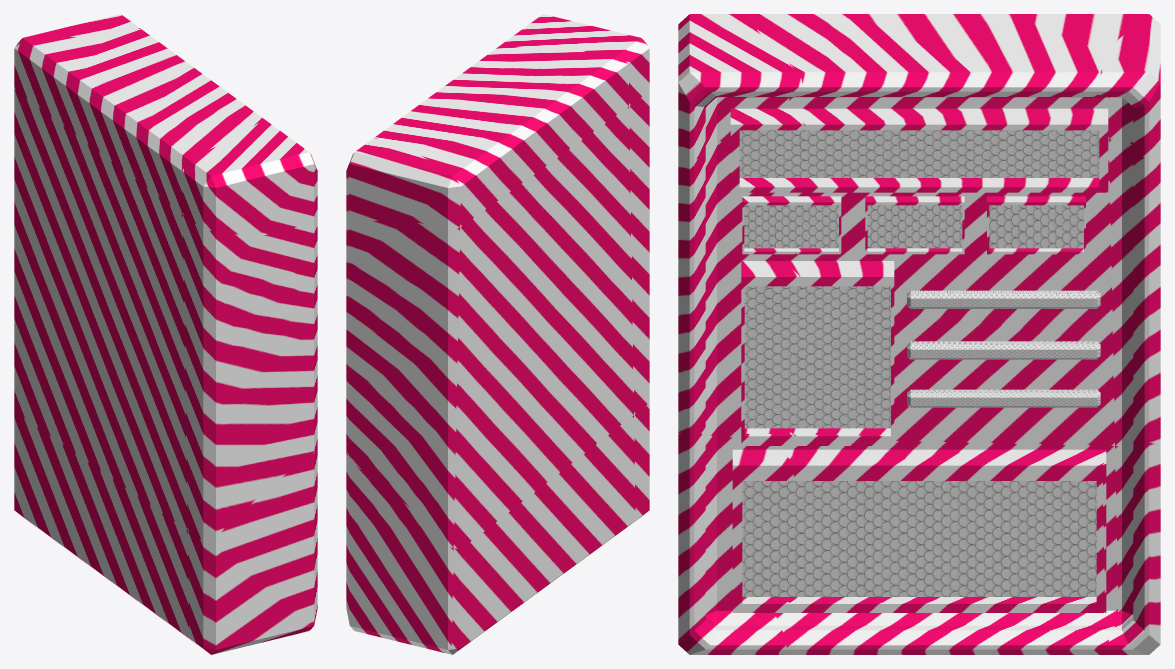
File: ChristmasSettingMenu.fbx
3 renders of one model, left to right at view 1: azimuth 30°, elevation 25°; view 2: azimuth 150°, elevation 25°; view 3: azimuth 270°, elevation 25°, orthographic. The views are drawn at different scales.
Visible parts, largest first — view 1: Cube; view 2: Cube; view 3: Cube, Cube.003, Cube.001, Cube.002, Cube.005, Cube.004, Cube.006, Cube.008, Cube.007, Cube.009.
Boxes of the visible parts, bbox=[...] form: Cube: bbox=[14, 14, 317, 654]; Cube: bbox=[346, 14, 649, 654]; Cube: bbox=[678, 14, 1160, 654]; Cube.003: bbox=[732, 449, 1106, 612]; Cube.001: bbox=[730, 108, 1108, 192]; Cube.002: bbox=[741, 261, 894, 445]; Cube.005: bbox=[865, 196, 964, 254]; Cube.004: bbox=[742, 196, 841, 254]; Cube.006: bbox=[987, 196, 1085, 254]; Cube.008: bbox=[907, 341, 1100, 359]; Cube.007: bbox=[907, 290, 1100, 308]; Cube.009: bbox=[907, 389, 1100, 407].
Size of the model in its own units: 207 by 800 by 600.
